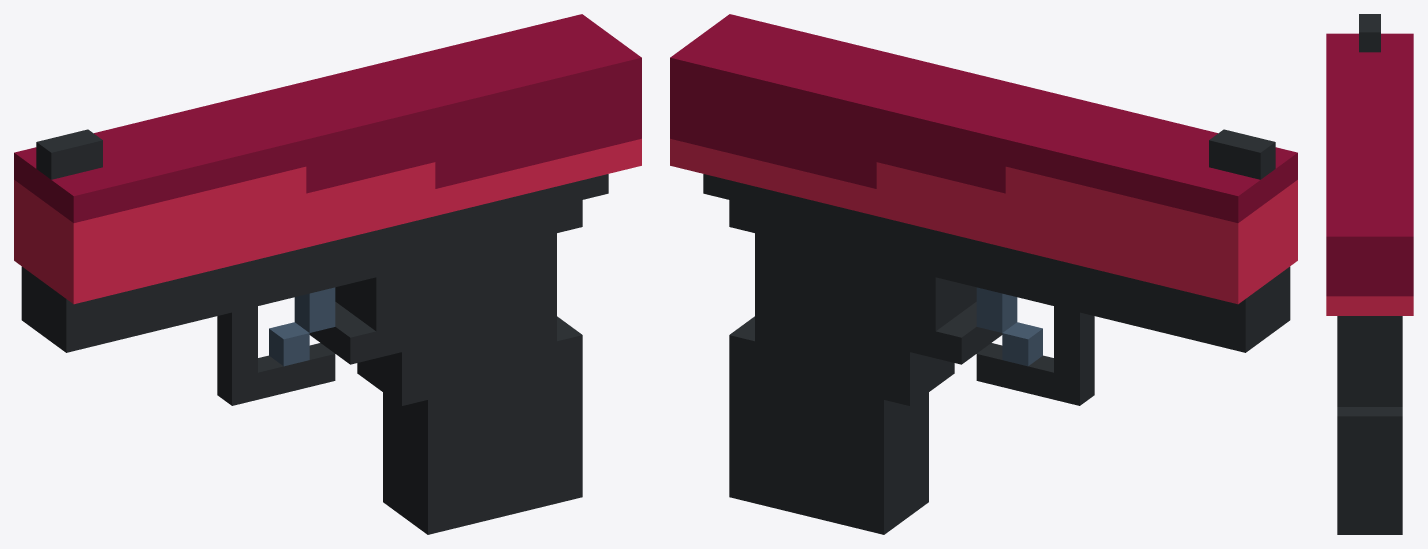
Rendered from pistol.fbx.
The picture shows the model from 3 angles, left to right: view 1: azimuth 30°, elevation 25°; view 2: azimuth 150°, elevation 25°; view 3: azimuth 270°, elevation 25°; orthographic projection. The views are drawn at different scales.
Visible parts, largest first — view 1: generated; view 2: generated; view 3: generated.
Boxes of the visible parts, x1,y1,x2,y2 form: generated: (14, 14, 641, 534); generated: (670, 14, 1297, 534); generated: (1326, 14, 1413, 534).
Size of the model in its own units: 220 by 170 by 40.
